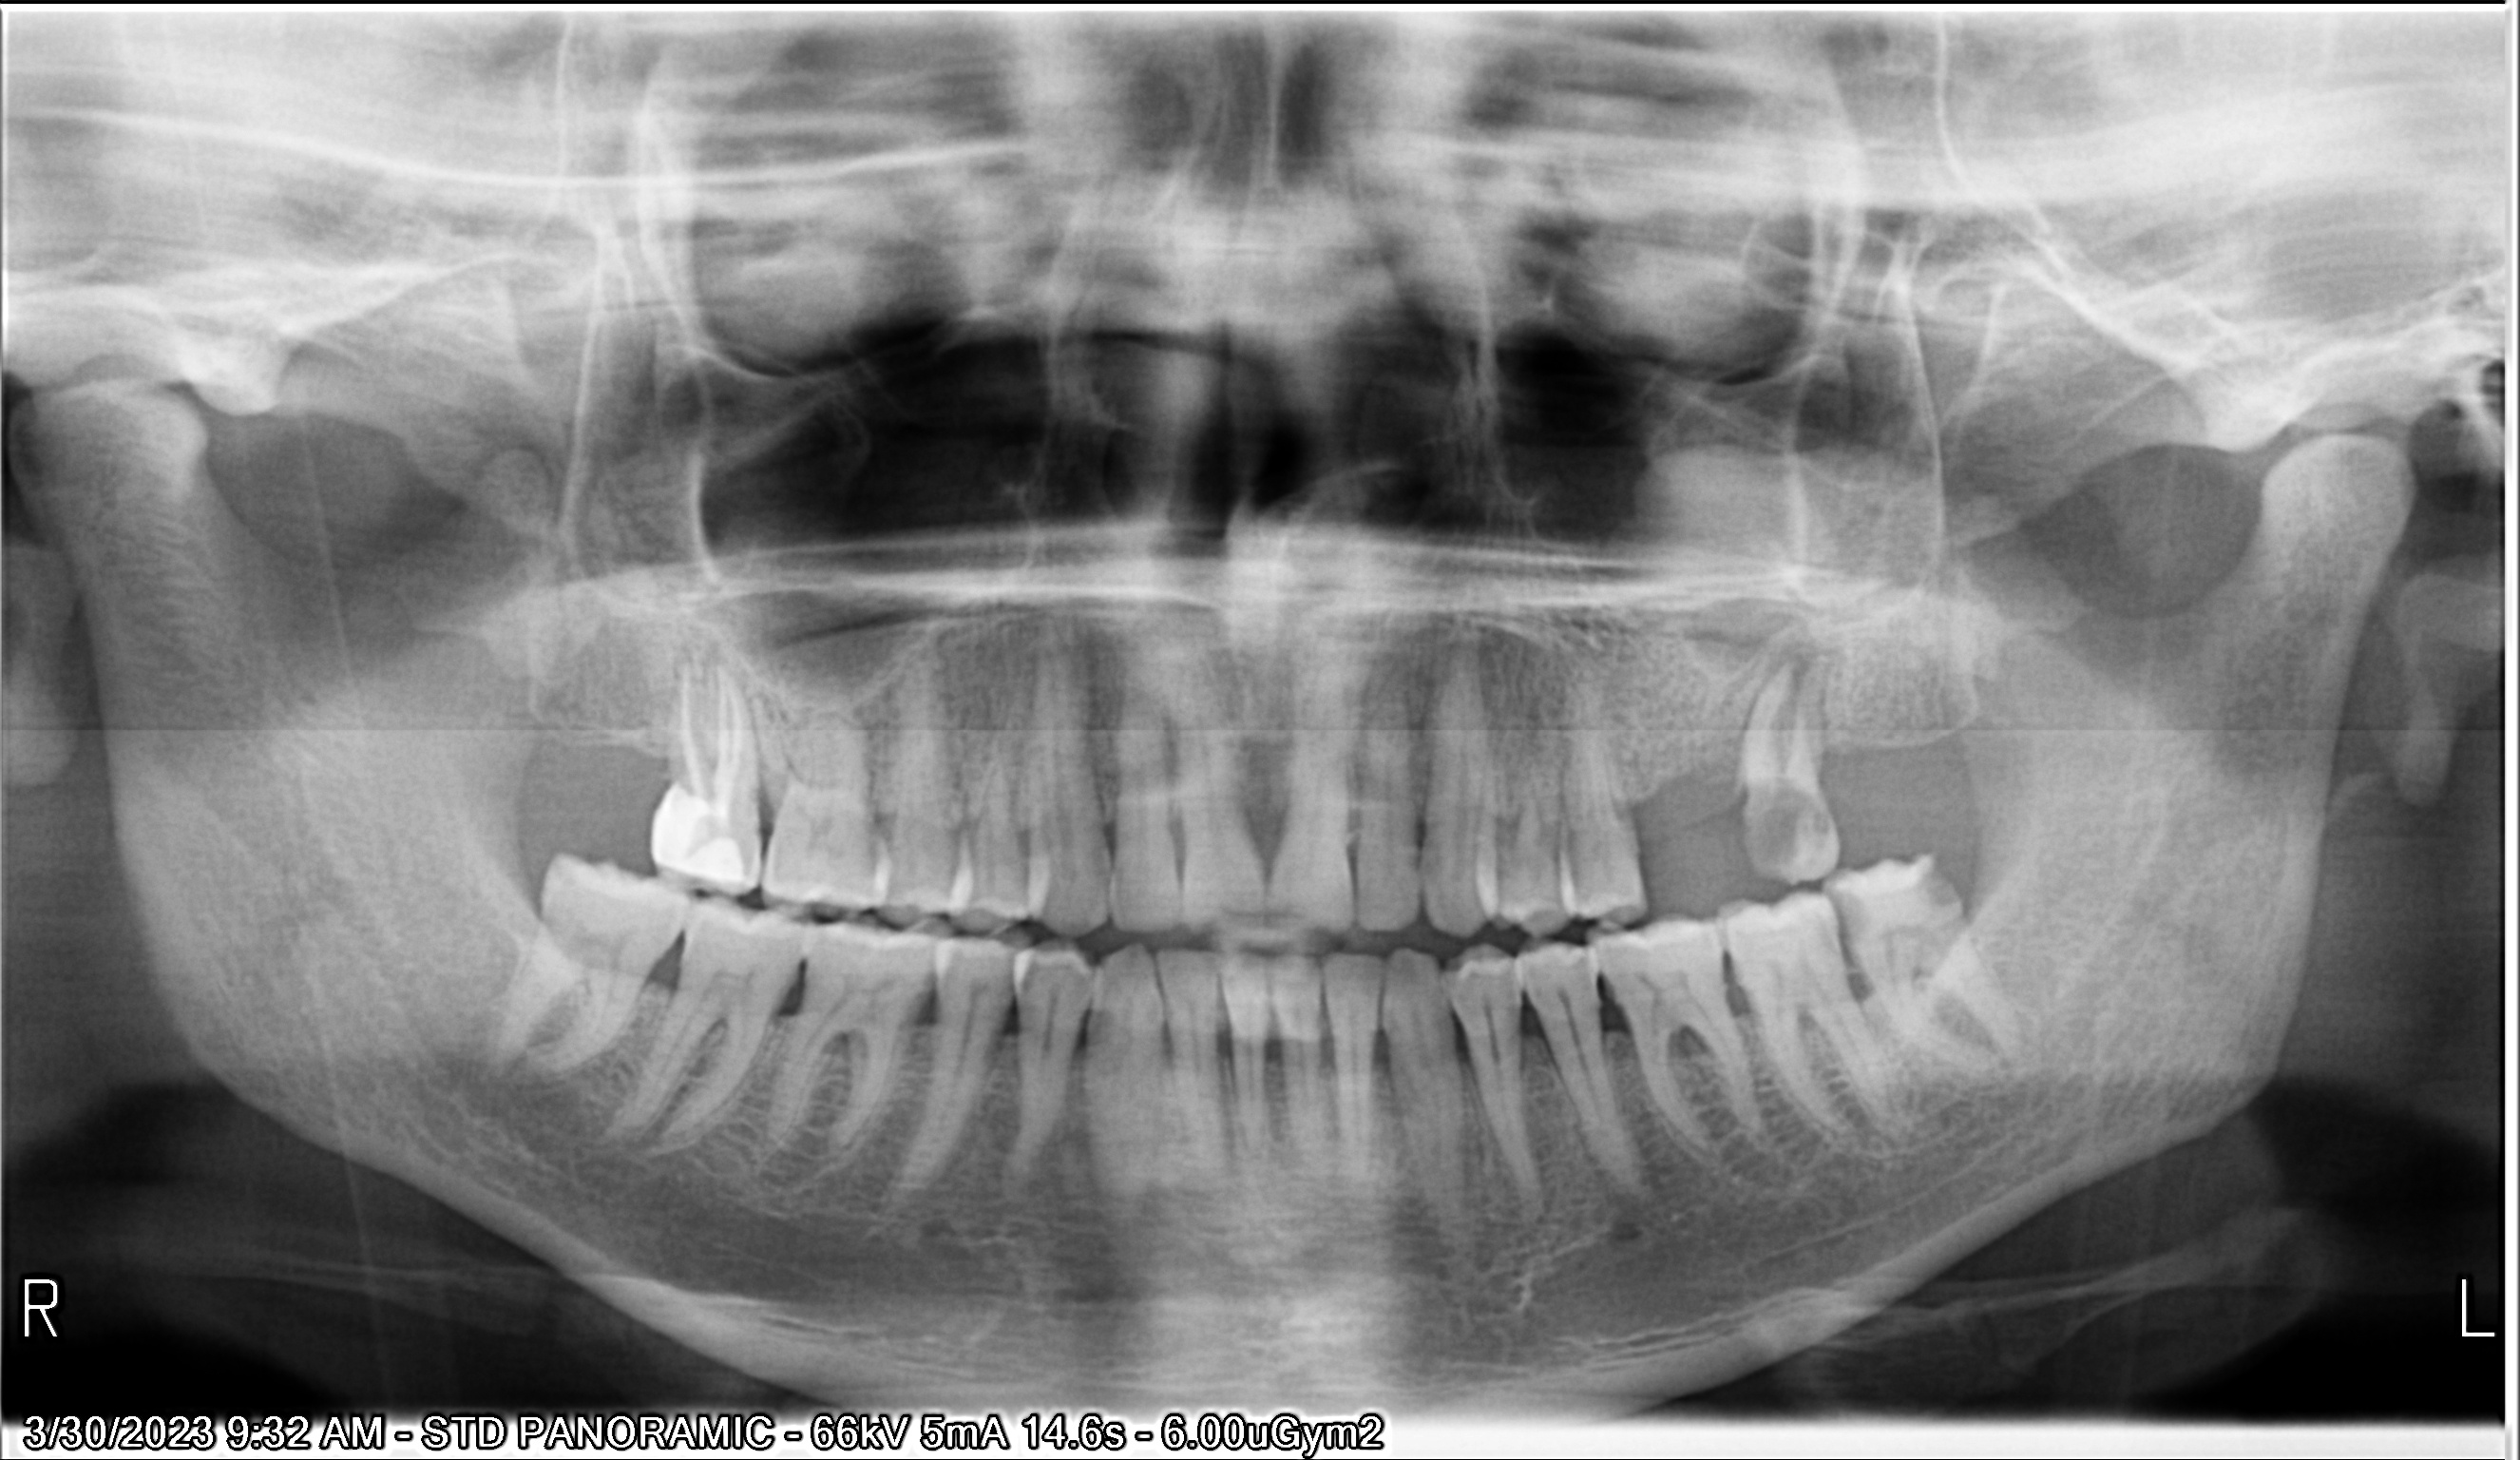CAR: (1733, 777, 1864, 897), (1881, 848, 1975, 935)
END: (660, 655, 764, 826)
OBT: (639, 766, 752, 885)
